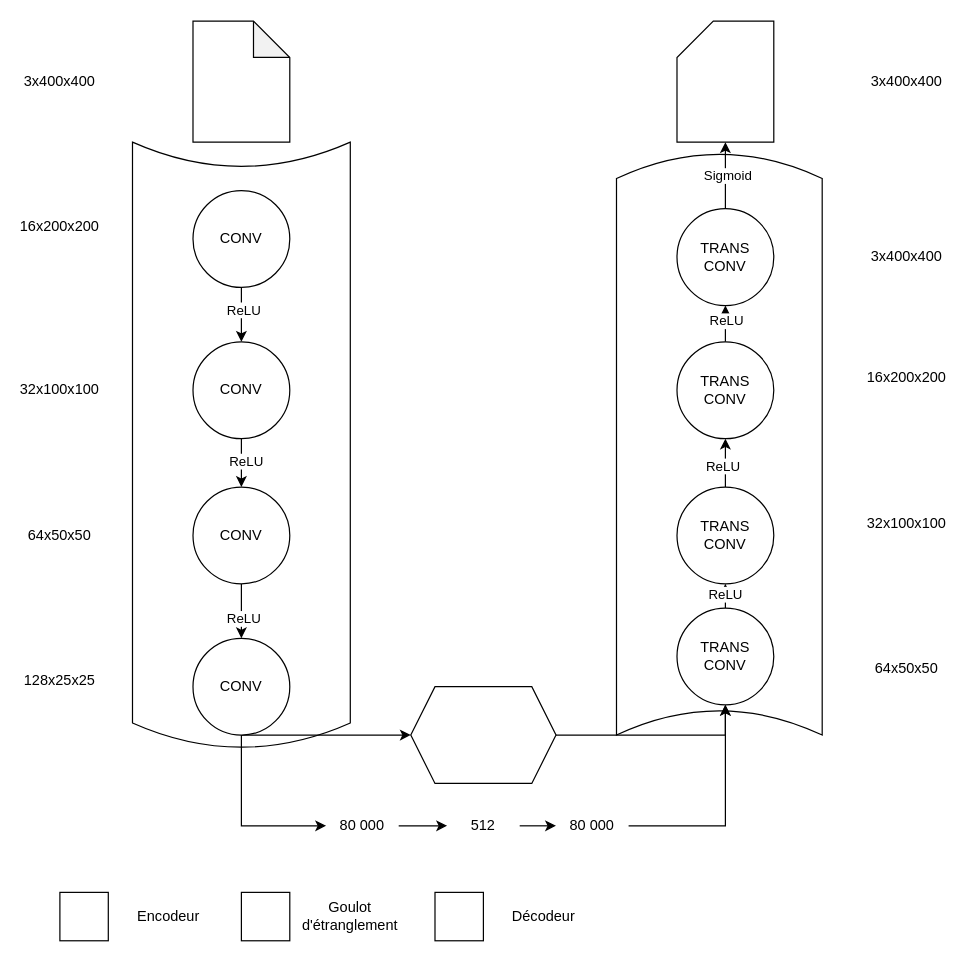
Some shapes in this 967 by 962 pixel diagram are drawn without their labels. The shapes that lost their labels are listed below. From the top down, each one's centre as x and y in pixels, then its label:
At point 241,81: "INPUT IMAGE".
At point 725,81: "OUTPUT IMAGE".
At point 483,734: "LINEAR".
